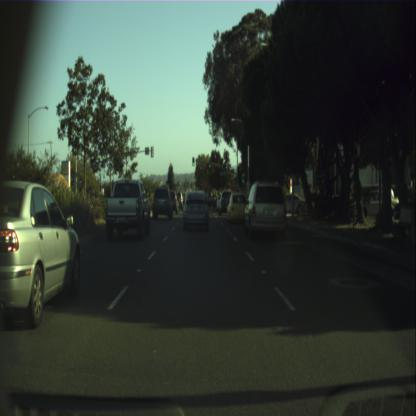Green: (208, 158, 211, 168), (242, 173, 245, 183), (192, 156, 194, 166)
